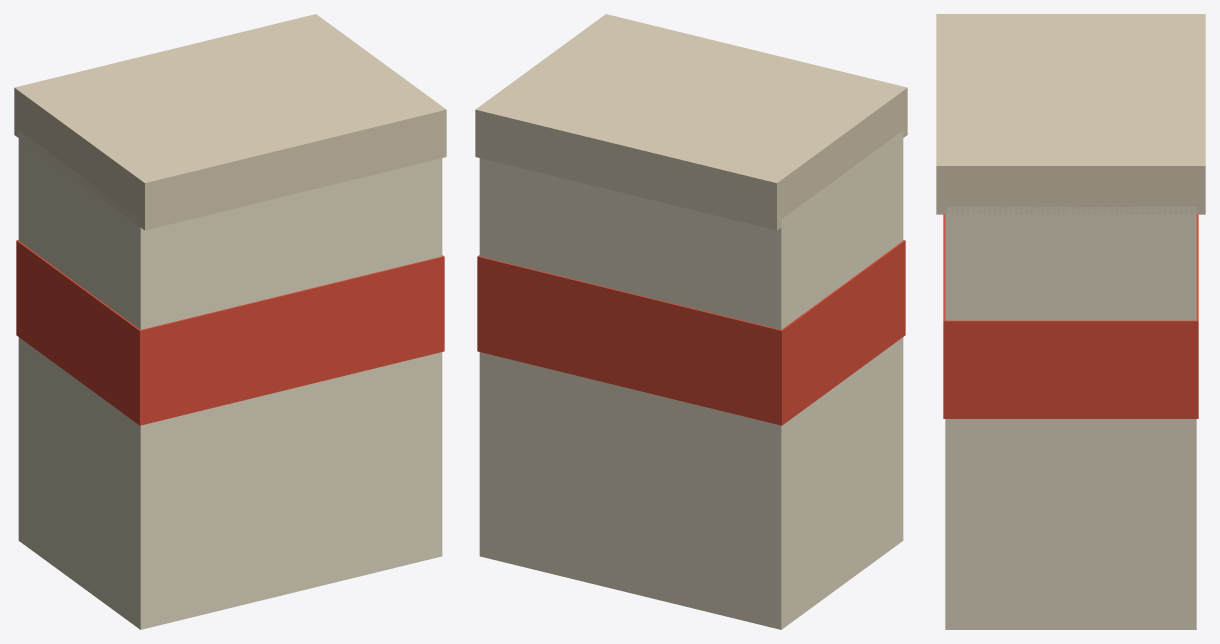
Rendered from home_prop_flour.glb.
The picture shows the model from 3 angles, left to right: view 1: azimuth 30°, elevation 25°; view 2: azimuth 150°, elevation 25°; view 3: azimuth 270°, elevation 25°; orthographic projection. The views are drawn at different scales.
Bounding box in the file's own units: 0.202 × 0.285 × 0.15.
